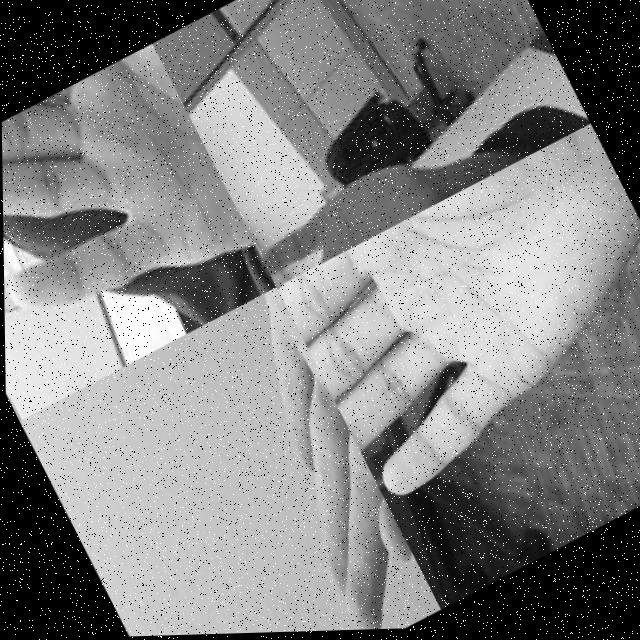hand: (273, 124, 640, 509), (1, 40, 256, 379), (198, 283, 437, 635), (248, 149, 440, 288)
